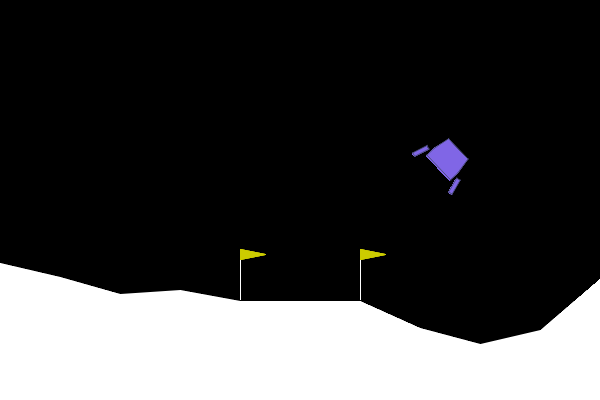lander: (410, 126, 480, 197)
